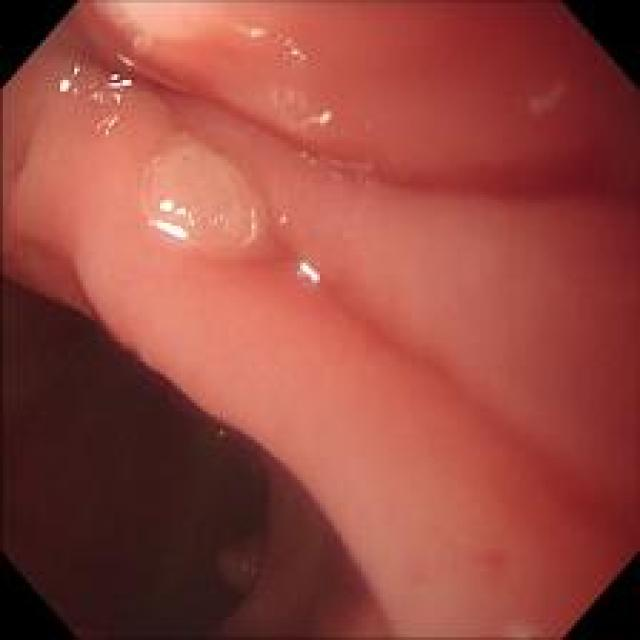contrast: (2, 256, 398, 631)
specularity: (46, 48, 146, 135), (144, 188, 196, 246), (284, 251, 336, 289)
